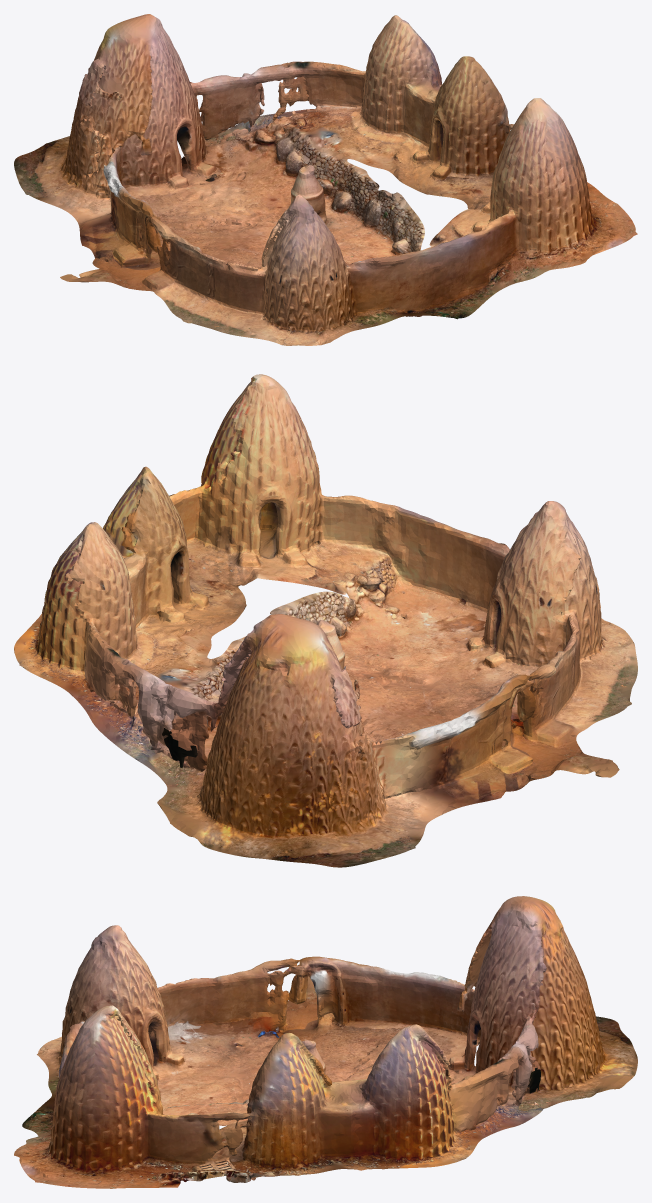
Rendered from case-obus-mousgoum-web.glb.
3 renders of one model, top to bottom at view 1: azimuth 30°, elevation 25°; view 2: azimuth 150°, elevation 25°; view 3: azimuth 270°, elevation 25°, orthographic. The views are drawn at different scales.
Bounding box in the file's own units: 18.6 × 6.47 × 19.74.
Materials: 5 (5 with a texture image).
